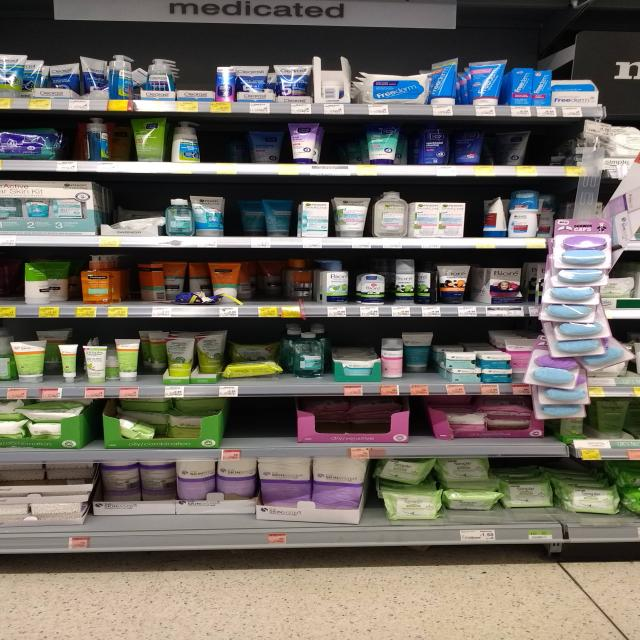void: (232, 396, 292, 458), (170, 47, 213, 111), (535, 120, 580, 176), (319, 119, 357, 175)
